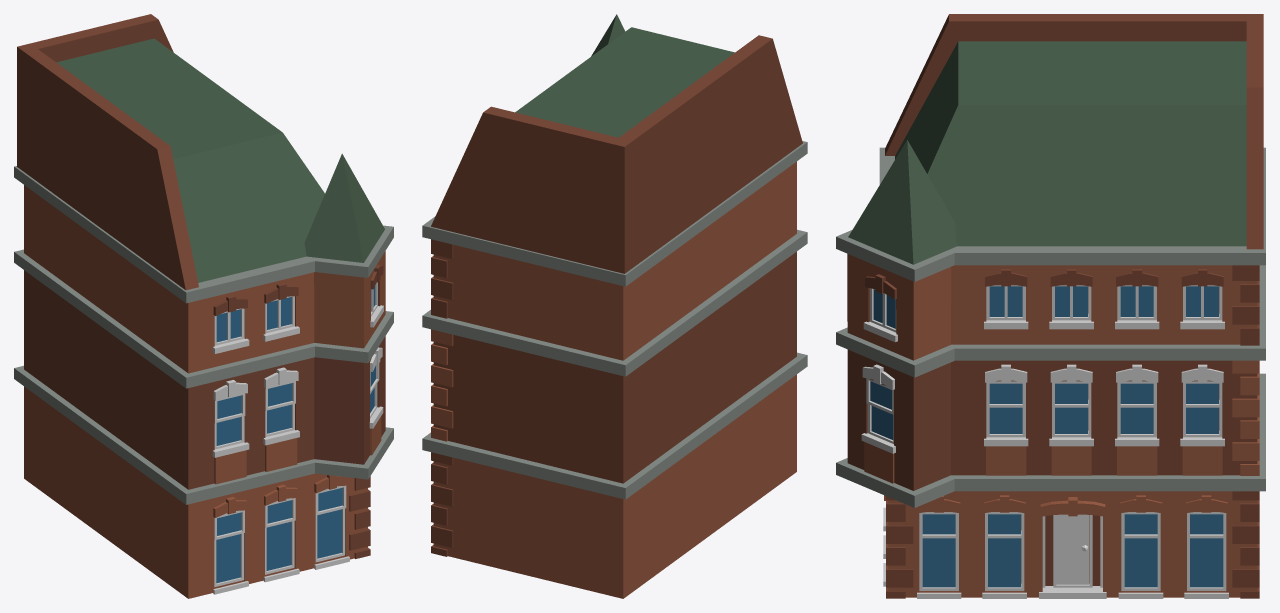
File: House4.gltf
3 views of the same model, side by side, from view 1: azimuth 30°, elevation 25°; view 2: azimuth 150°, elevation 25°; view 3: azimuth 270°, elevation 25° (orthographic). The views are drawn at different scales.
Parts seen in each view (by area): view 1: House4; view 2: House4; view 3: House4.
Part boxes in pixels (bbox=[...]): House4: bbox=[14, 14, 393, 598]; House4: bbox=[422, 14, 807, 598]; House4: bbox=[836, 14, 1265, 598].
Bounding box in the file's own units: 7.59 × 14.01 × 11.29.
Materials: 2 (1 with a texture image).
